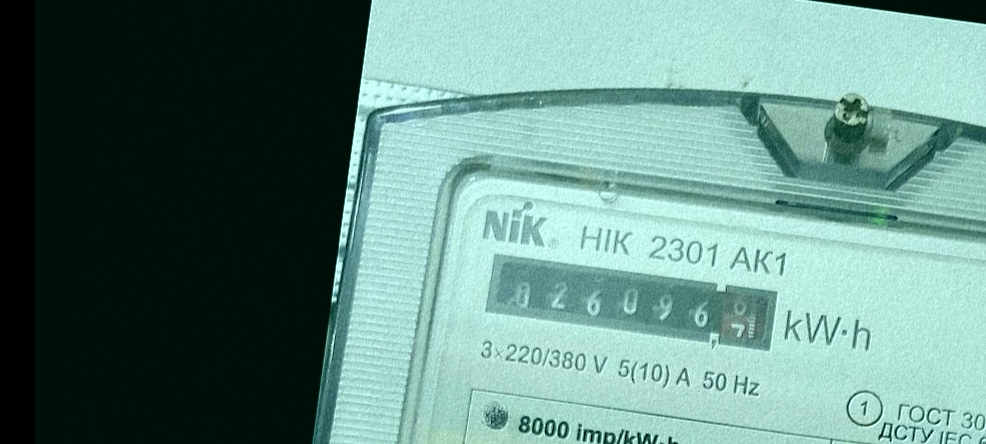0: (619, 285, 644, 322), (512, 278, 536, 312)
2: (547, 279, 573, 316)
6: (584, 286, 607, 323), (692, 297, 714, 332), (730, 292, 753, 322)
7: (728, 321, 749, 344)
9: (655, 292, 678, 327)
screen: (475, 245, 788, 366)
